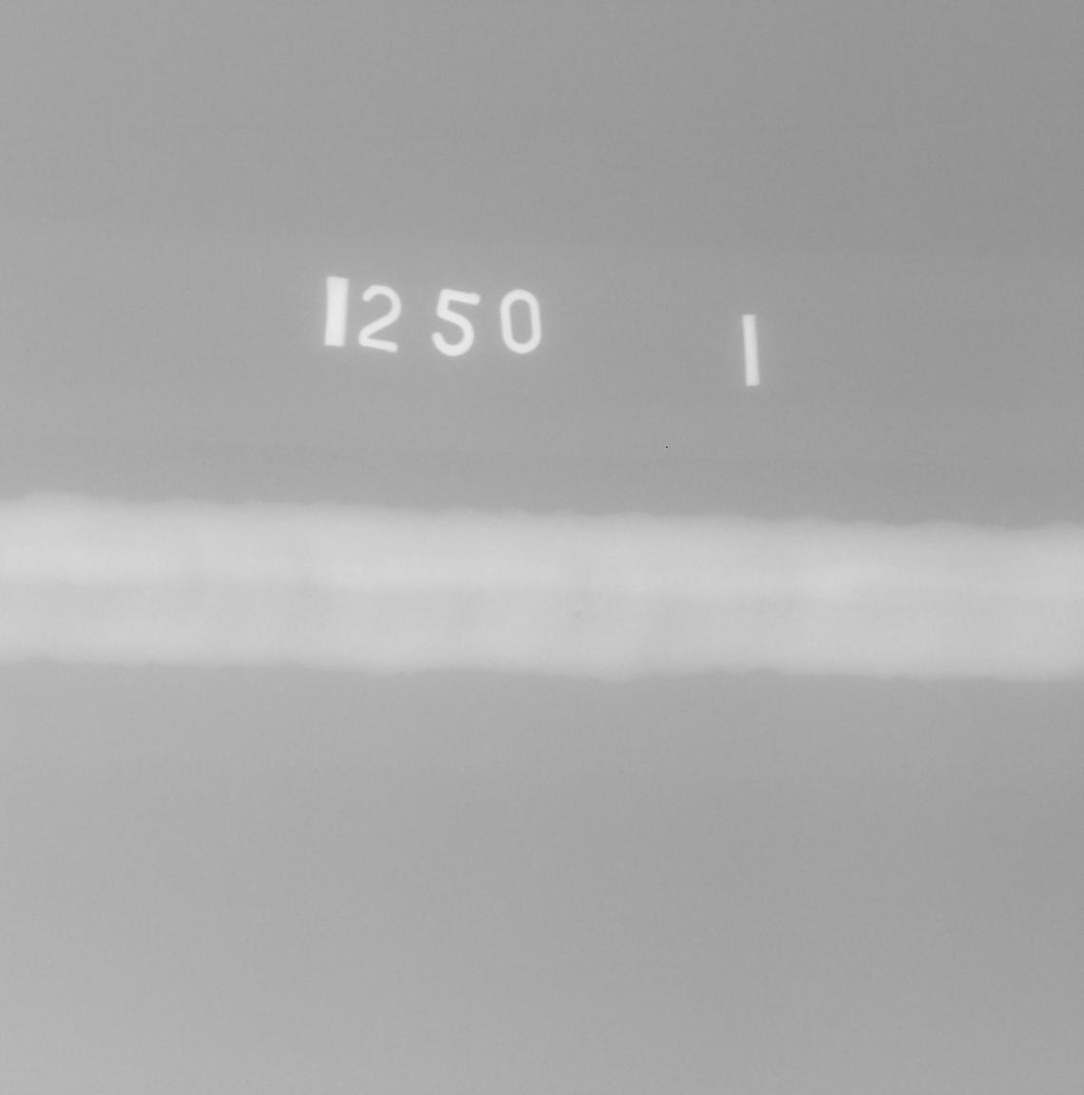Pore/Porosity: (573, 610, 583, 619), (759, 609, 766, 615), (873, 615, 881, 620), (789, 606, 794, 613)
